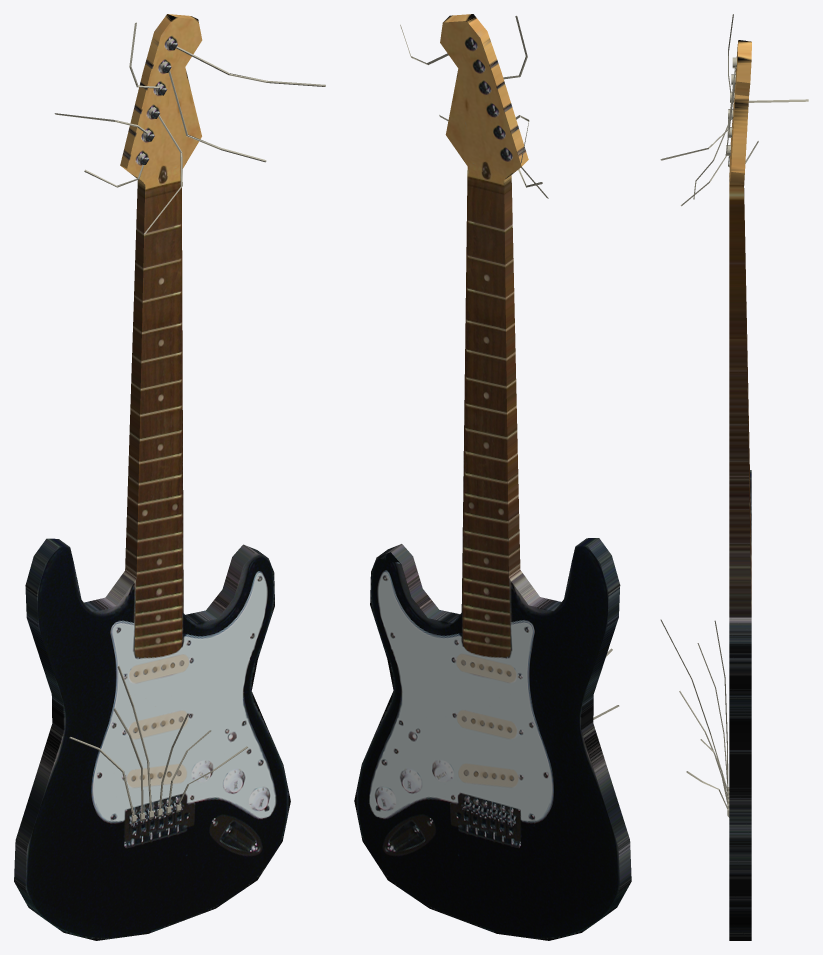
File: GuitarBroken.FBX
The picture shows the model from 3 angles, left to right: view 1: azimuth 30°, elevation 25°; view 2: azimuth 150°, elevation 25°; view 3: azimuth 270°, elevation 25°; orthographic projection.
Visible parts, largest first — view 1: Gitarre; view 2: Gitarre; view 3: Gitarre.
Boxes of the visible parts, x1=… form: Gitarre: x1=14, y1=14, x2=325, y2=940; Gitarre: x1=354, y1=14, x2=631, y2=940; Gitarre: x1=660, y1=14, x2=808, y2=940.
Bounding box in the file's own units: 20.12 × 65.98 × 9.9.
